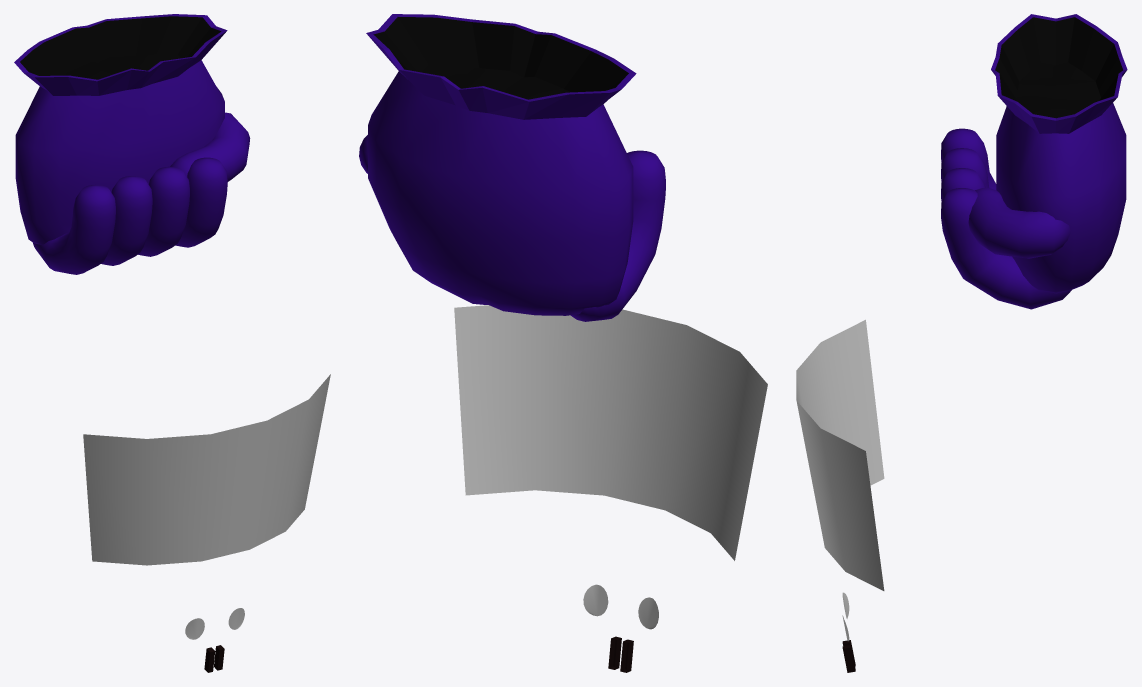
The model's file is chumbucketatribut.obj.
3 views of the same model, side by side, from view 1: azimuth 30°, elevation 25°; view 2: azimuth 150°, elevation 25°; view 3: azimuth 270°, elevation 25° (orthographic). The views are drawn at different scales.
Parts seen in each view (by area): view 1: Chum_Bucket_15_-_Default_0, Chum_Bucket_09_-_Default_0, Chum_Bucket_08_-_Default_0, Chum_Bucket_07_-_Default_0; view 2: Chum_Bucket_15_-_Default_0, Chum_Bucket_09_-_Default_0, Chum_Bucket_08_-_Default_0, Chum_Bucket_07_-_Default_0, Chum_Bucket_13_-_Default_0; view 3: Chum_Bucket_15_-_Default_0, Chum_Bucket_09_-_Default_0, Chum_Bucket_08_-_Default_0.
Part boxes in pixels (left/top/right/bottom): Chum_Bucket_15_-_Default_0: left=14, top=14, right=250, bottom=274; Chum_Bucket_09_-_Default_0: left=83, top=374, right=330, bottom=565; Chum_Bucket_08_-_Default_0: left=20, top=16, right=221, bottom=79; Chum_Bucket_07_-_Default_0: left=185, top=608, right=244, bottom=639; Chum_Bucket_15_-_Default_0: left=359, top=14, right=665, bottom=321; Chum_Bucket_09_-_Default_0: left=454, top=305, right=767, bottom=560; Chum_Bucket_08_-_Default_0: left=373, top=17, right=628, bottom=99; Chum_Bucket_07_-_Default_0: left=583, top=584, right=658, bottom=629; Chum_Bucket_13_-_Default_0: left=608, top=636, right=633, bottom=672; Chum_Bucket_15_-_Default_0: left=941, top=14, right=1127, bottom=309; Chum_Bucket_09_-_Default_0: left=796, top=319, right=884, bottom=590; Chum_Bucket_08_-_Default_0: left=995, top=17, right=1122, bottom=118.
Size of the model in its own units: 193 by 414 by 206.
